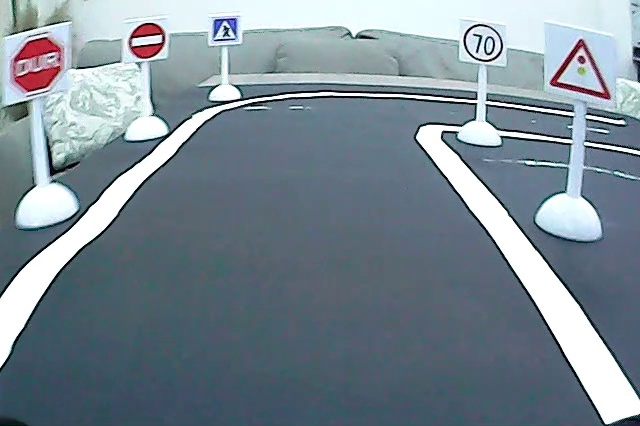do not enter: (125, 18, 168, 63)
pedestrian crossing: (210, 13, 241, 46)
red light: (546, 33, 616, 105)
speed limit 70: (461, 22, 507, 65)
stop sign: (7, 30, 72, 98)
